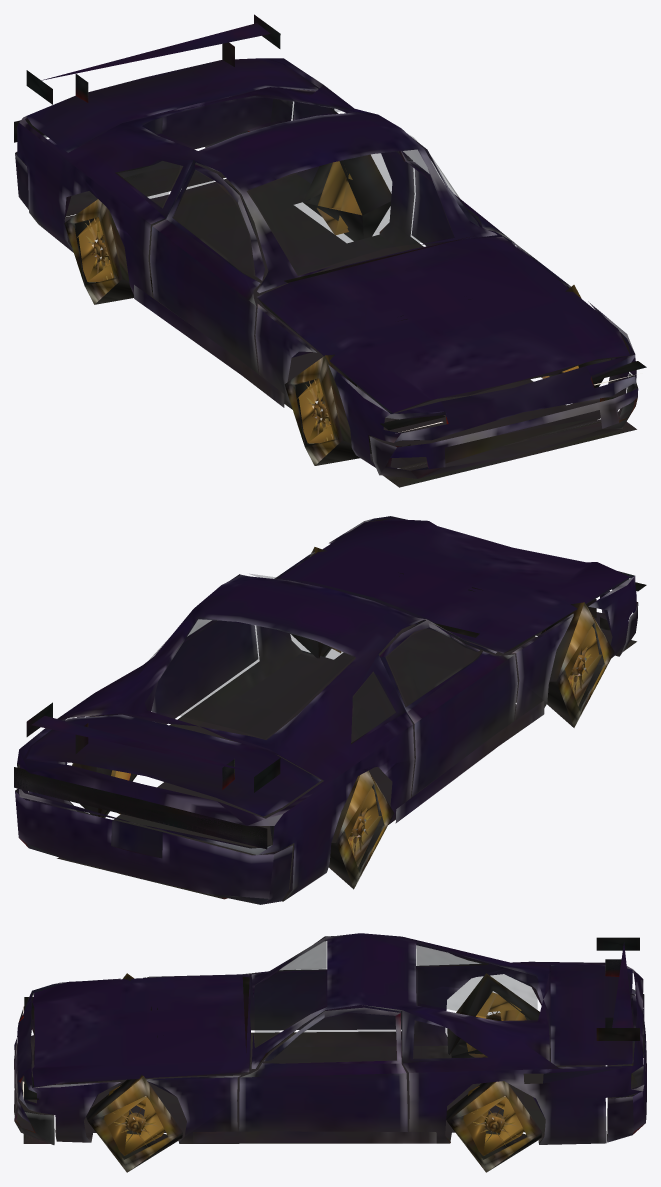
File: hayate_lod2.glb
3 renders of one model, top to bottom at view 1: azimuth 30°, elevation 25°; view 2: azimuth 150°, elevation 25°; view 3: azimuth 270°, elevation 25°, orthographic. The views are drawn at different scales.
Parts seen in each view (by area): view 1: Body, Wheel_RL, Wheel_FR, Wheel_RR; view 2: Body, Wheel_FR, Wheel_RR, Wheel_RL; view 3: Body, Wheel_FL, Wheel_RL, Wheel_RR.
Part boxes in pixels (x1,y1,x2,y2): Body: (14,14,646,487); Wheel_RL: (303,154,391,241); Wheel_FR: (284,354,371,465); Wheel_RR: (64,199,152,304); Body: (14,516,646,904); Wheel_FR: (541,602,614,727); Wheel_RR: (328,770,394,889); Wheel_RL: (72,715,137,817); Body: (14,933,646,1144); Wheel_FL: (86,1074,182,1172); Wheel_RL: (446,1081,542,1172); Wheel_RR: (447,973,539,1057).
Size of what is drawn, in the model's own units: 1.8 by 1.25 by 4.41.
Materials: 2 (2 with a texture image).
